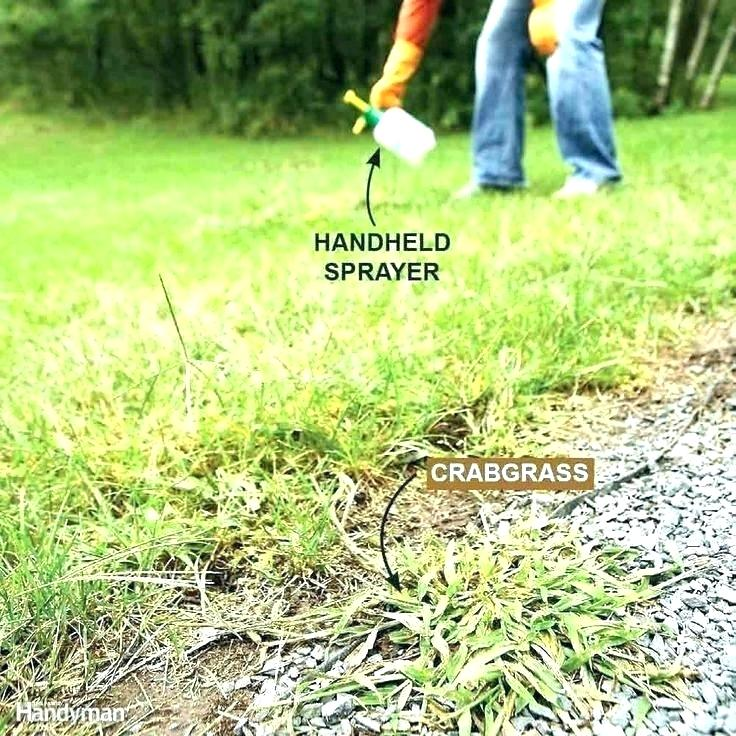crabgrass: (378, 513, 664, 730)
